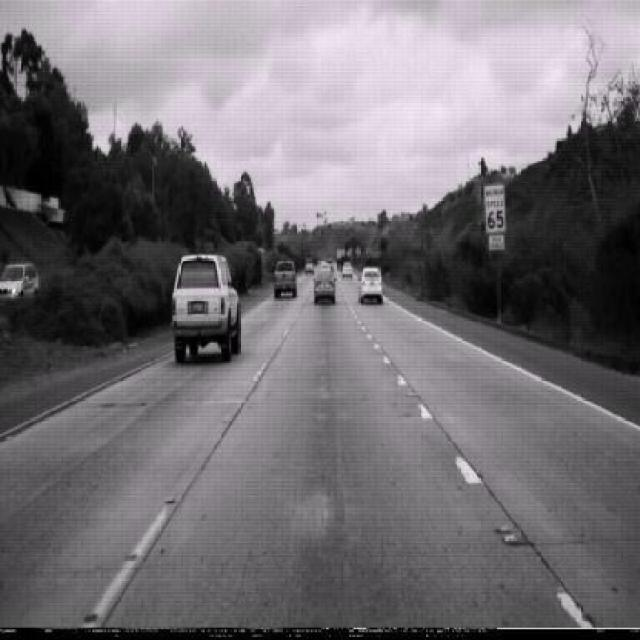speedLimit65: (483, 180, 507, 234)
